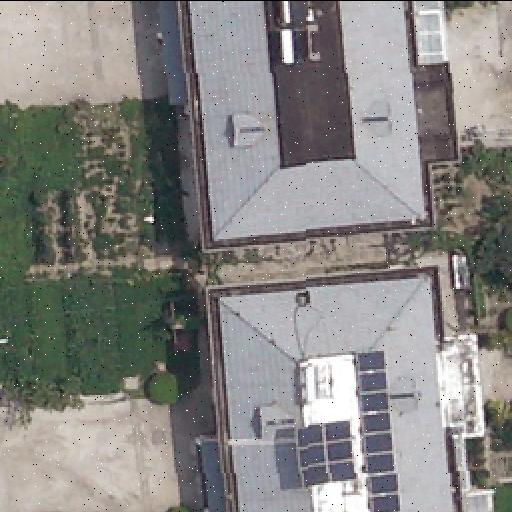solar-panel: (357, 352, 403, 512), (299, 417, 357, 487)
